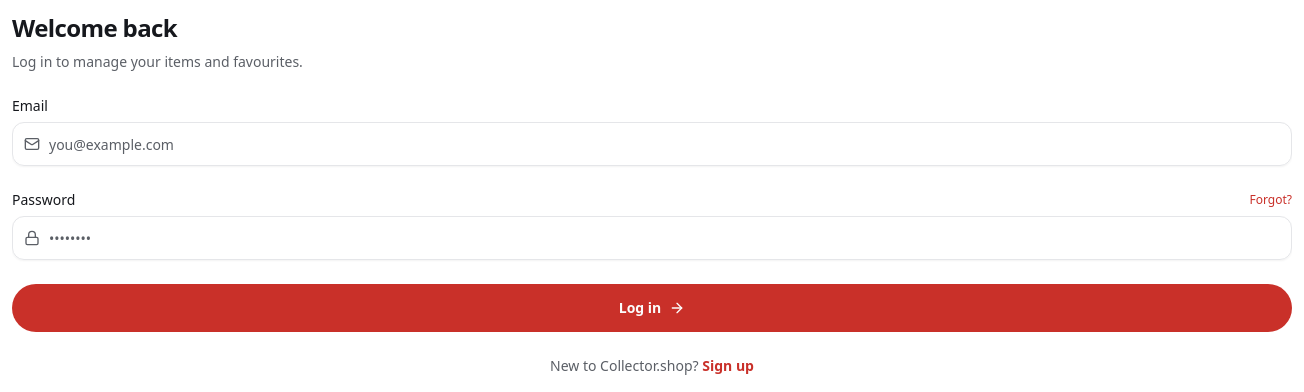
Test case: LoginForm › passe le bouton en état de chargement pendant la soumission
In the field labelled "Email": (652, 144) [12,122,1292,166], type "a@b.co"
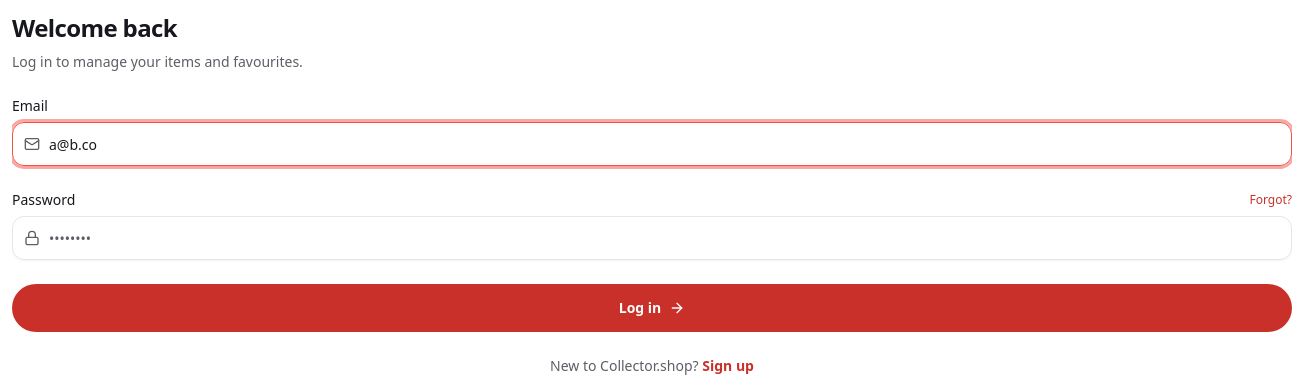
In the password field labelled "Password": (652, 238) [12,216,1292,260], type "secret12"
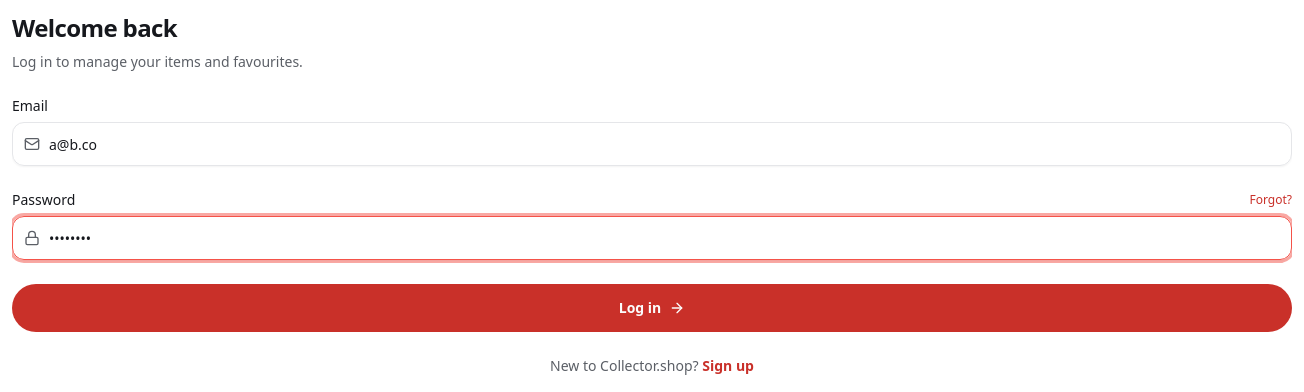
Click the button "Log in": (652, 308) [12,284,1292,332]
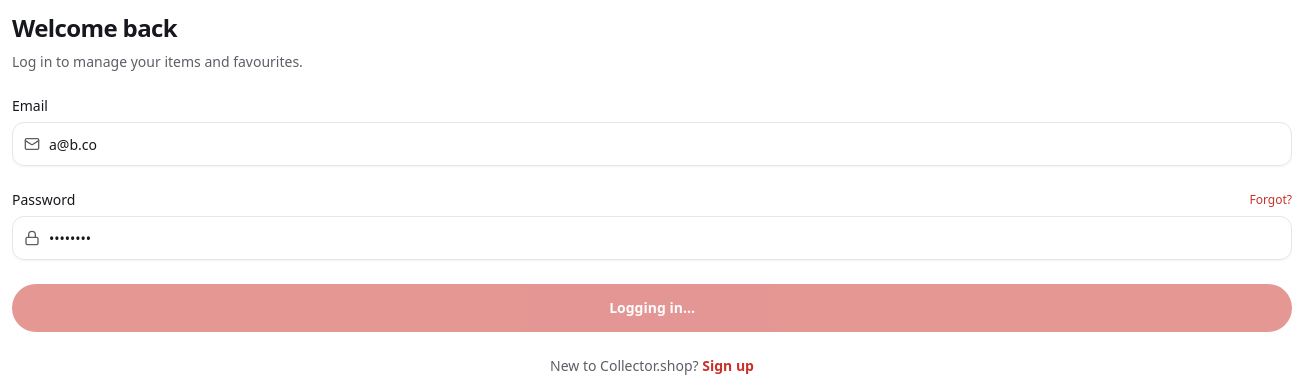
Check: the button "Logging in…" is disabled, box [12,284,1292,332]
